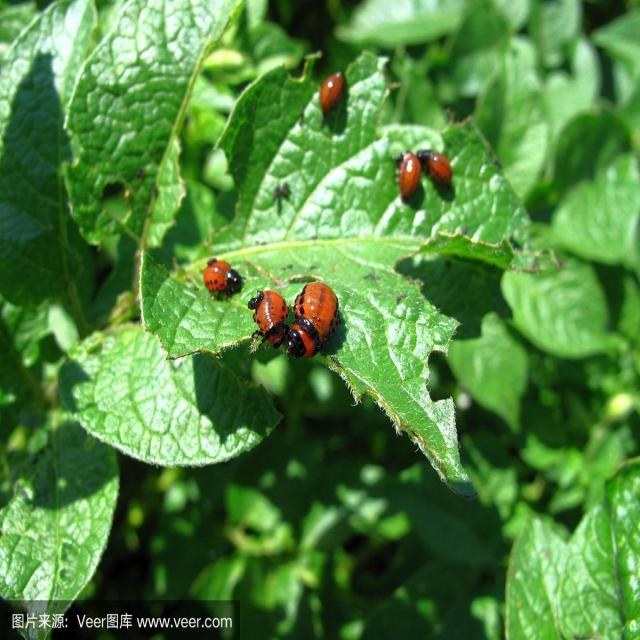ShuCaiHuaBanChong-Larva-: (284, 261, 347, 364), (190, 242, 250, 304), (319, 59, 369, 126), (247, 278, 284, 348), (392, 146, 419, 201), (420, 147, 456, 187)
